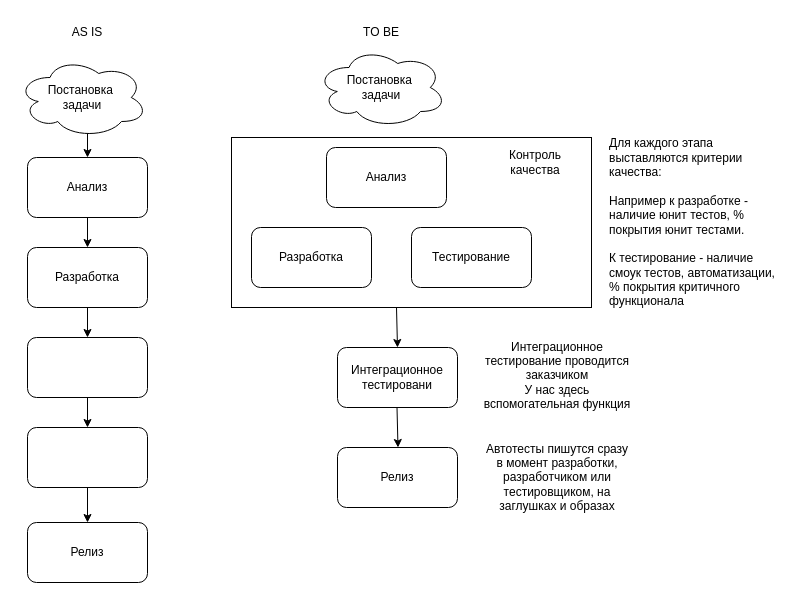
Image size: 805x600. Some labels were removed from this diagram. The shapes that lost their labels are listed below. From the top down, each one's centre as x and y in pixels, then its label:
(87,367): "Внутреннее тестирование"
(87,457): Интеграционное тестирование
